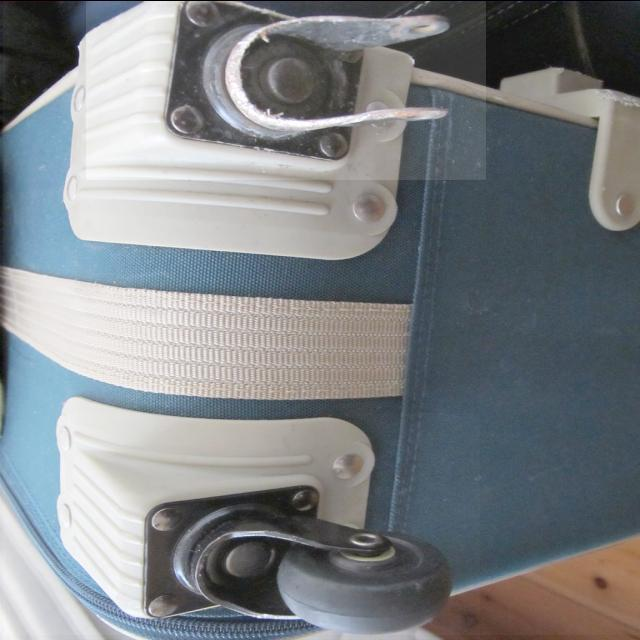Damage-bag: (165, 1, 449, 160)
